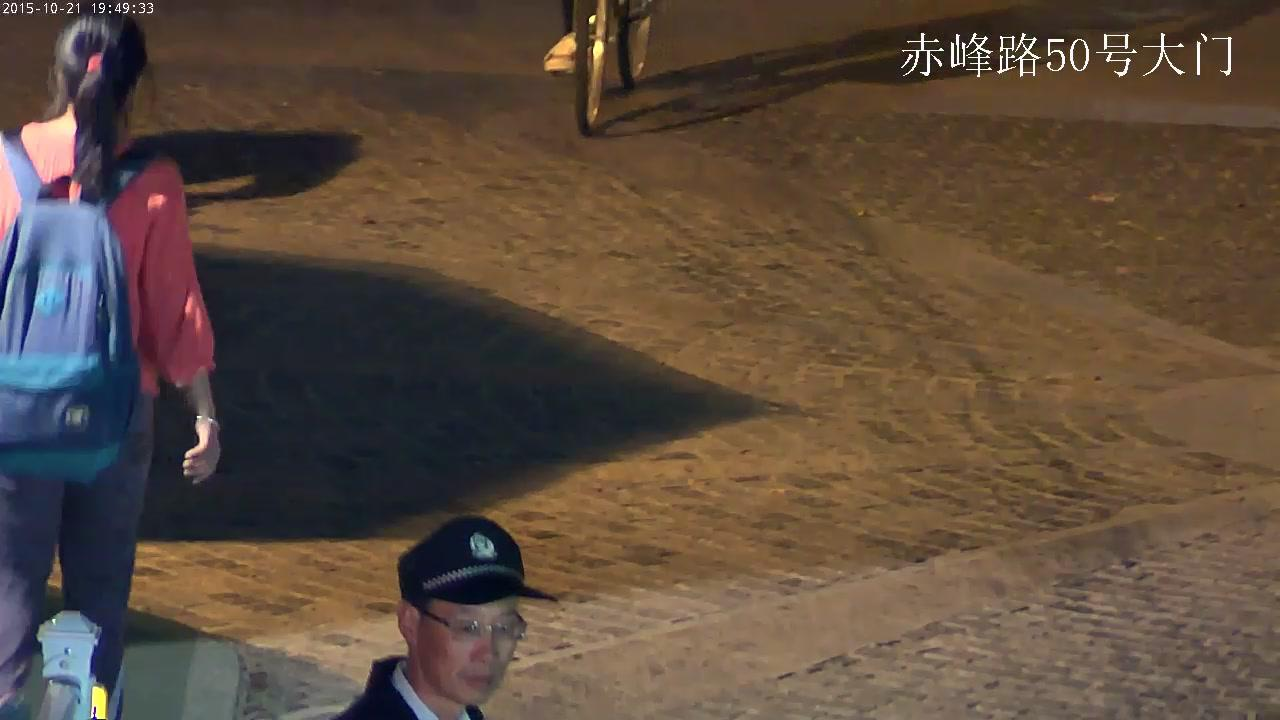face: (421, 596, 519, 705)
